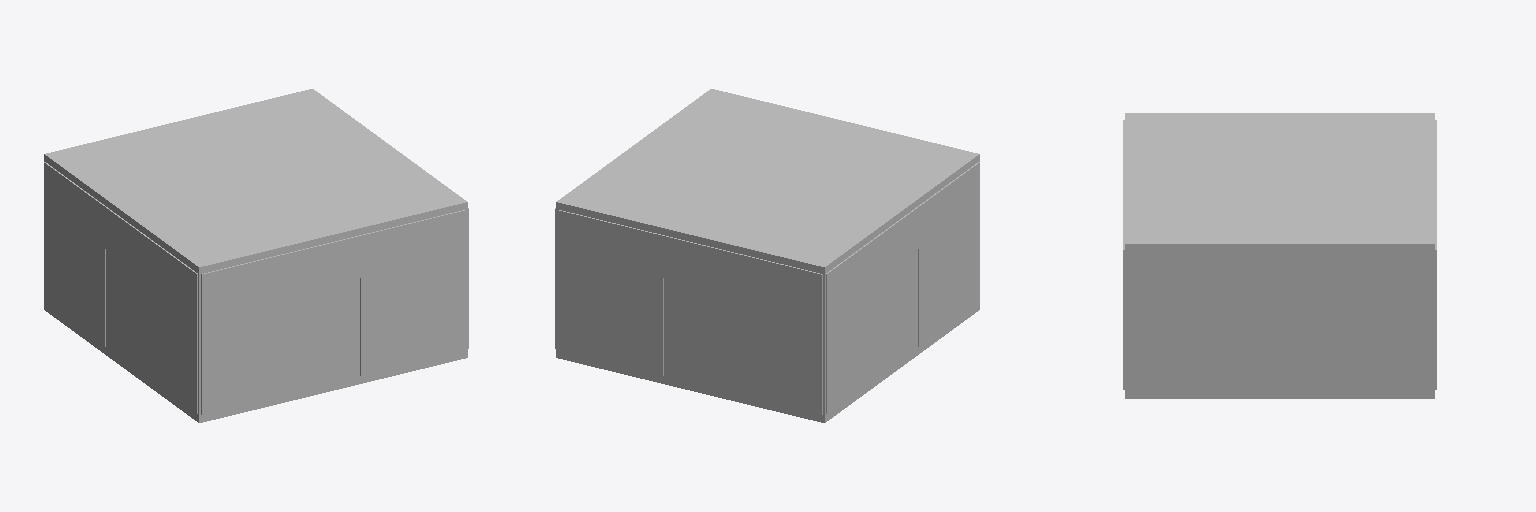
File: 1x1_hotel_room_T.obj
3 renders of one model, left to right at view 1: azimuth 30°, elevation 25°; view 2: azimuth 150°, elevation 25°; view 3: azimuth 270°, elevation 25°, orthographic.
Visible parts, largest first — view 1: UCX_1x1_hotel_room_T_11, UCX_1x1_hotel_room_T_07, UCX_1x1_hotel_room_T_08, 1x1_hotel_room_T, UCX_1x1_hotel_room_T_01, UCX_1x1_hotel_room_T_02, UCX_1x1_hotel_room_T_00, UCX_1x1_hotel_room_T_09, UCX_1x1_hotel_room_T_03; view 2: UCX_1x1_hotel_room_T_11, UCX_1x1_hotel_room_T_04, UCX_1x1_hotel_room_T_05, 1x1_hotel_room_T, UCX_1x1_hotel_room_T_02, UCX_1x1_hotel_room_T_01, UCX_1x1_hotel_room_T_00, UCX_1x1_hotel_room_T_06, UCX_1x1_hotel_room_T_03; view 3: UCX_1x1_hotel_room_T_10, UCX_1x1_hotel_room_T_11, UCX_1x1_hotel_room_T_00.
Boxes of the visible parts, <box> form: UCX_1x1_hotel_room_T_11: <box>44,89,467,275</box>; UCX_1x1_hotel_room_T_07: <box>360,210,466,375</box>; UCX_1x1_hotel_room_T_08: <box>201,248,306,414</box>; 1x1_hotel_room_T: <box>44,160,467,415</box>; UCX_1x1_hotel_room_T_01: <box>136,229,197,413</box>; UCX_1x1_hotel_room_T_02: <box>44,162,105,346</box>; UCX_1x1_hotel_room_T_00: <box>44,303,467,422</box>; UCX_1x1_hotel_room_T_09: <box>307,235,360,290</box>; UCX_1x1_hotel_room_T_03: <box>105,207,135,270</box>; UCX_1x1_hotel_room_T_11: <box>556,89,979,275</box>; UCX_1x1_hotel_room_T_04: <box>557,210,663,375</box>; UCX_1x1_hotel_room_T_05: <box>717,248,822,414</box>; 1x1_hotel_room_T: <box>556,161,978,415</box>; UCX_1x1_hotel_room_T_02: <box>826,229,887,413</box>; UCX_1x1_hotel_room_T_01: <box>918,162,979,346</box>; UCX_1x1_hotel_room_T_00: <box>556,303,979,422</box>; UCX_1x1_hotel_room_T_06: <box>663,235,716,290</box>; UCX_1x1_hotel_room_T_03: <box>888,207,918,270</box>; UCX_1x1_hotel_room_T_10: <box>1125,251,1434,391</box>; UCX_1x1_hotel_room_T_11: <box>1125,113,1434,250</box>; UCX_1x1_hotel_room_T_00: <box>1125,392,1434,398</box>.
Bounding box in the file's own units: 20.2 × 11.1 × 20.2.